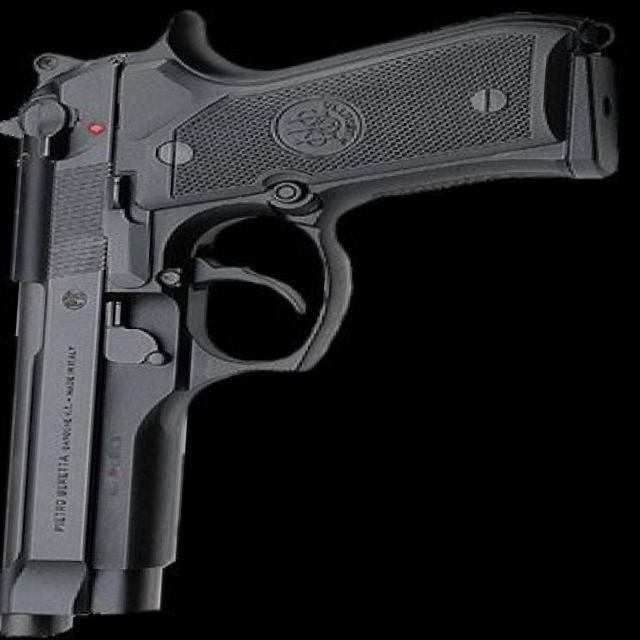handgun: (0, 10, 620, 640)
